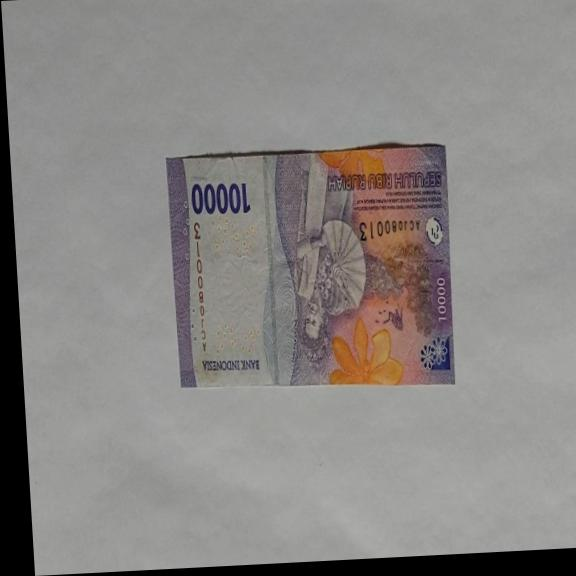Kertas: (165, 140, 459, 398), (189, 179, 252, 219)
